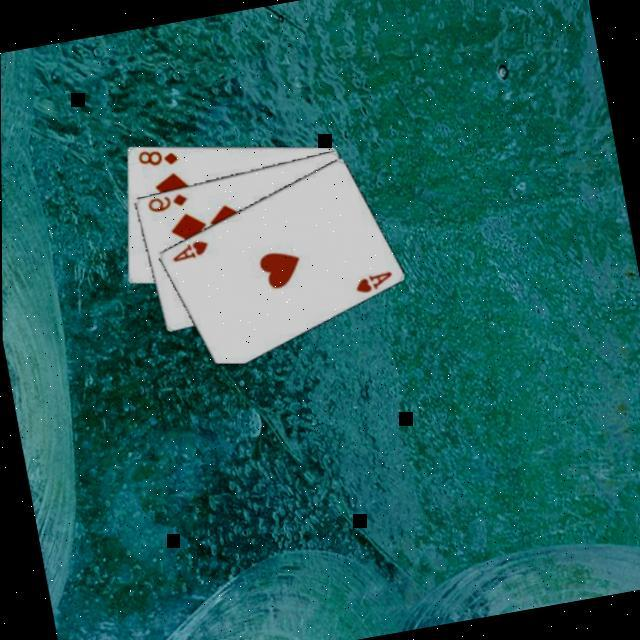8D: (130, 142, 180, 173)
9D: (140, 189, 189, 217)
AH: (164, 236, 210, 266), (348, 268, 394, 298)
